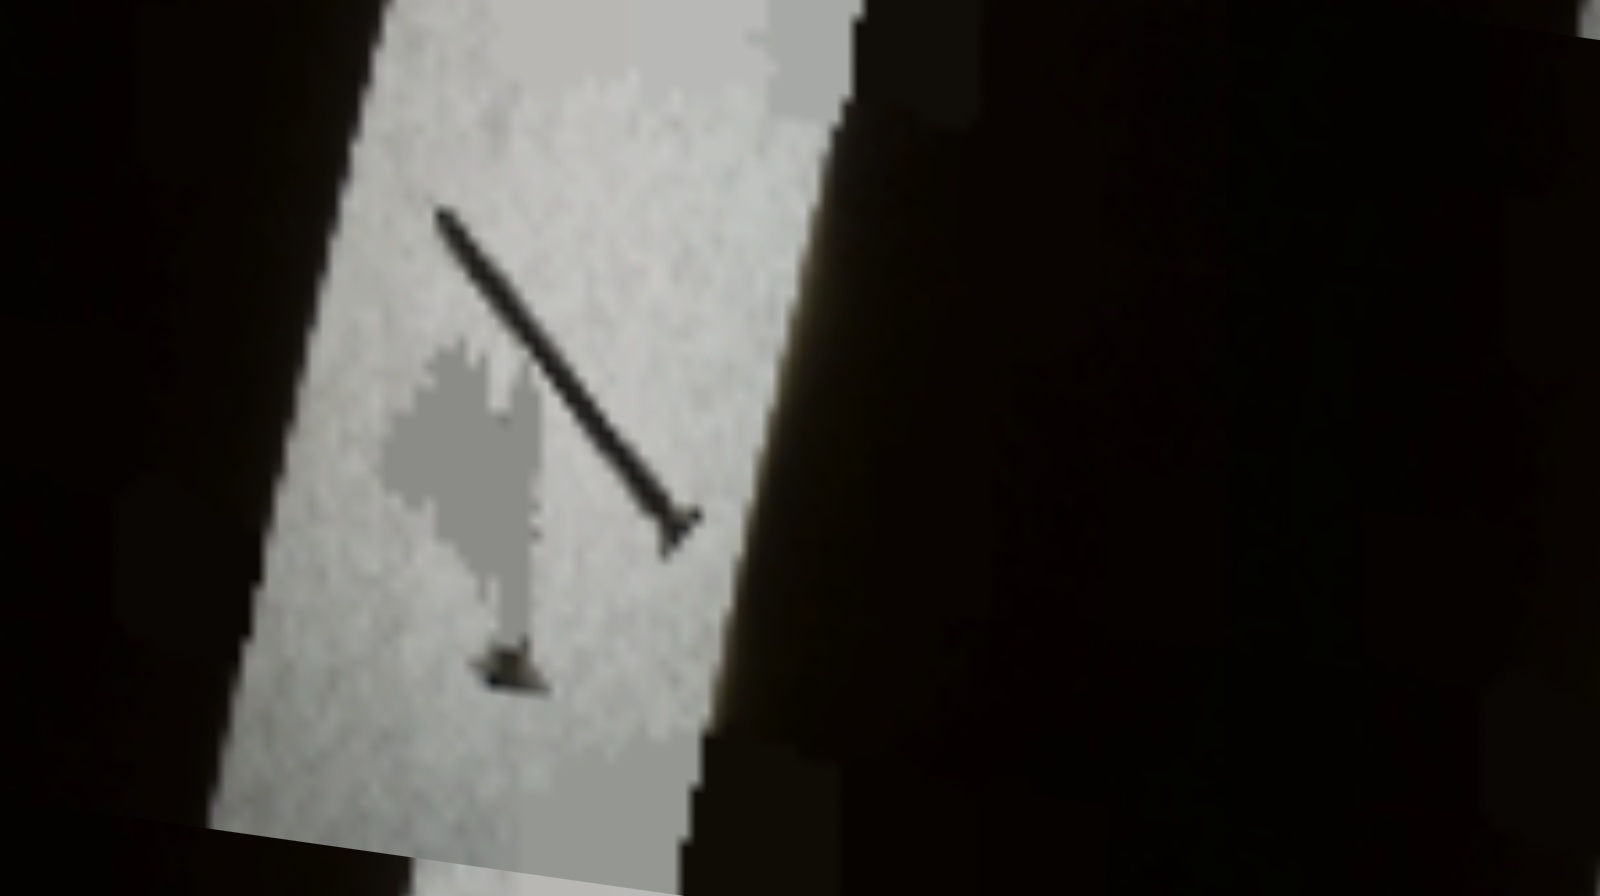S001: (470, 345, 559, 707)
S002: (429, 195, 704, 572)
